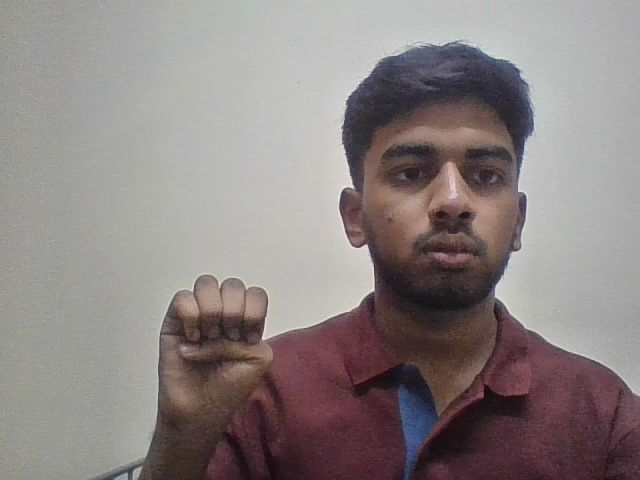E: (144, 267, 281, 441)
